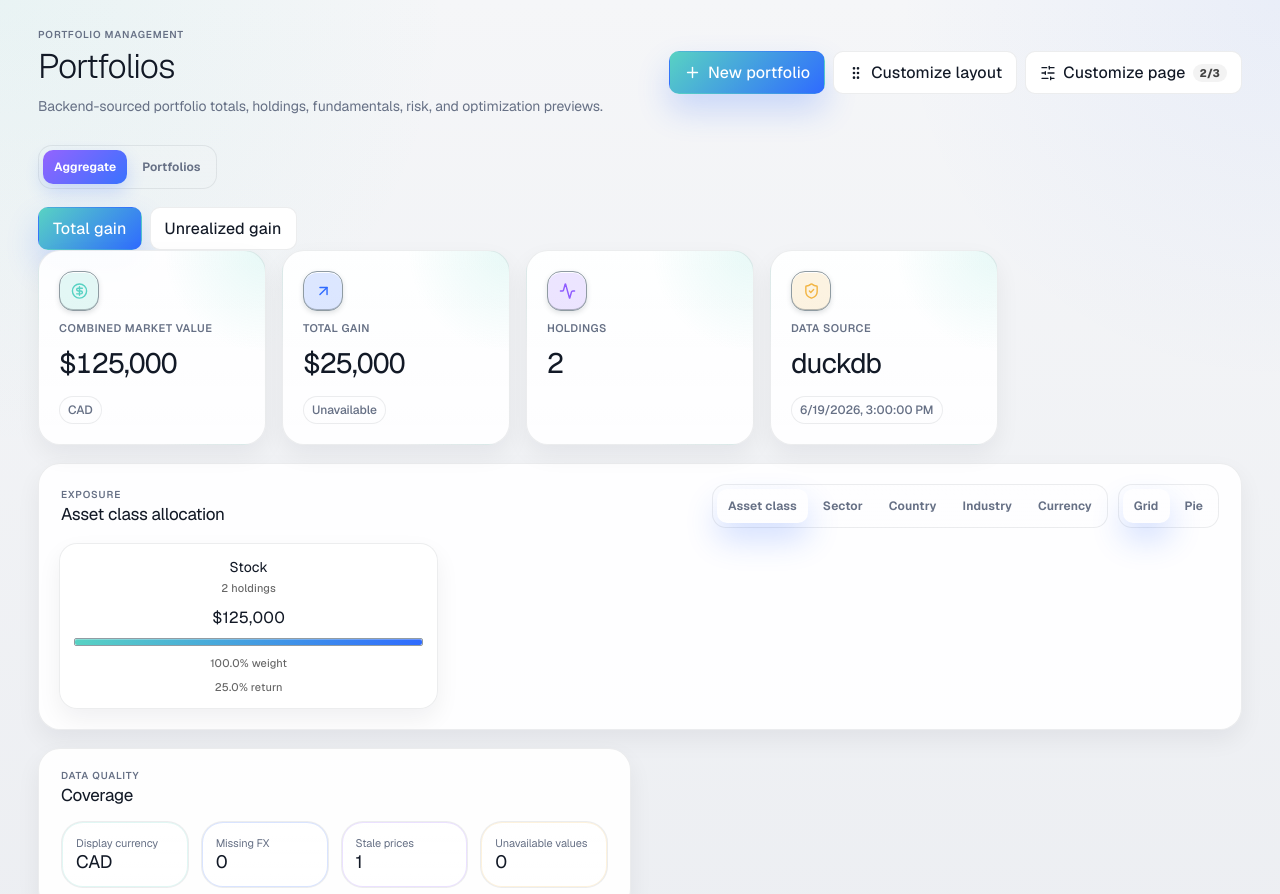
Test case: PortfolioWorkspacePage › renders aggregate portfolio state from API data
Check: the heading "Portfolios" is shown, box [38,44,175,88]
Check: the heading "Asset class allocation" is shown, box [61,502,225,524]
Click the button "Stock 2 holdings $125,000 100.0% weight 25.0% return" at (249, 626), box [59,543,438,709]
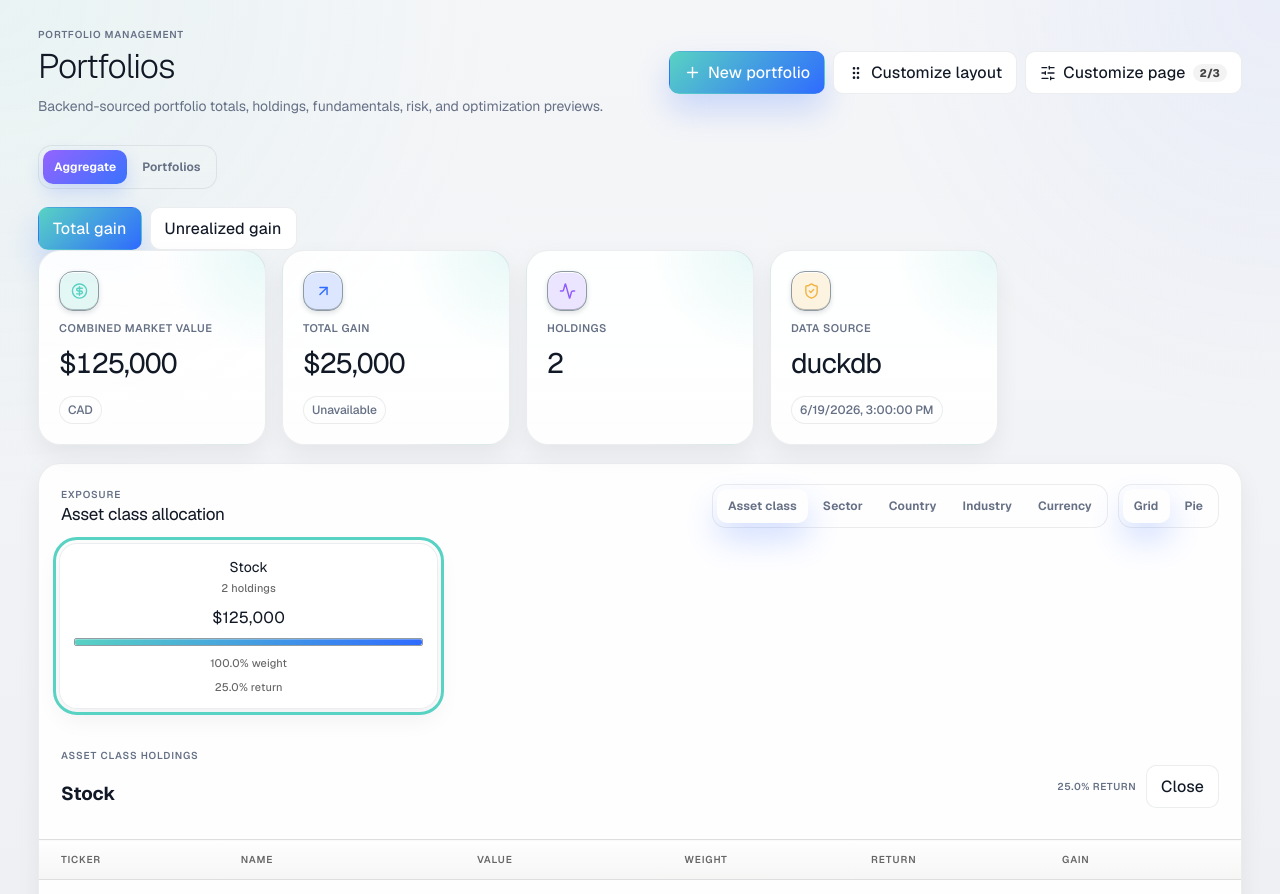
Check: the 1st text "25.0% return" is shown, box [215,680,283,694]
Check: the heading "Stock" is shown, box [61,781,116,806]
Check: the text "Asset class holdings" is shown, box [61,749,199,762]
